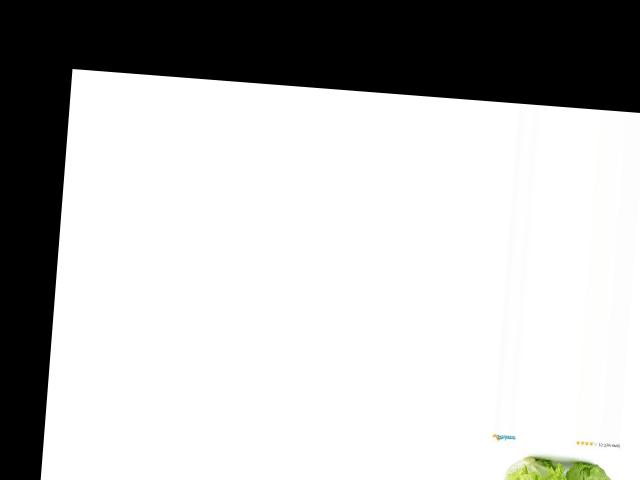lettuce: (547, 449, 616, 480)
